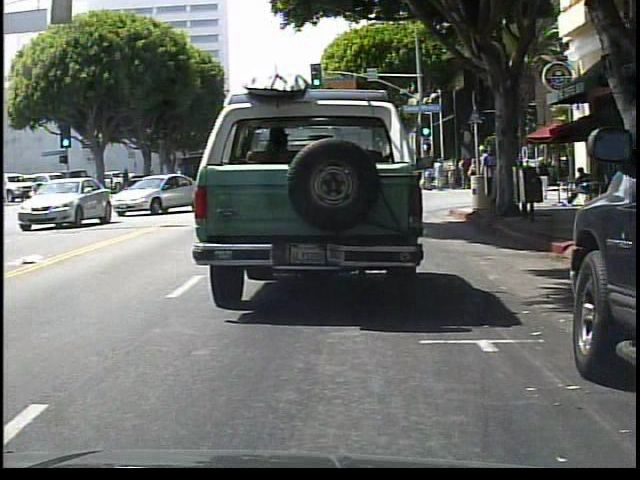person: (564, 165, 599, 209), (503, 152, 521, 217), (479, 144, 495, 206), (467, 157, 481, 204), (539, 158, 551, 201), (527, 165, 539, 202), (434, 158, 446, 191), (447, 157, 458, 190), (461, 156, 471, 190), (424, 166, 435, 192)
